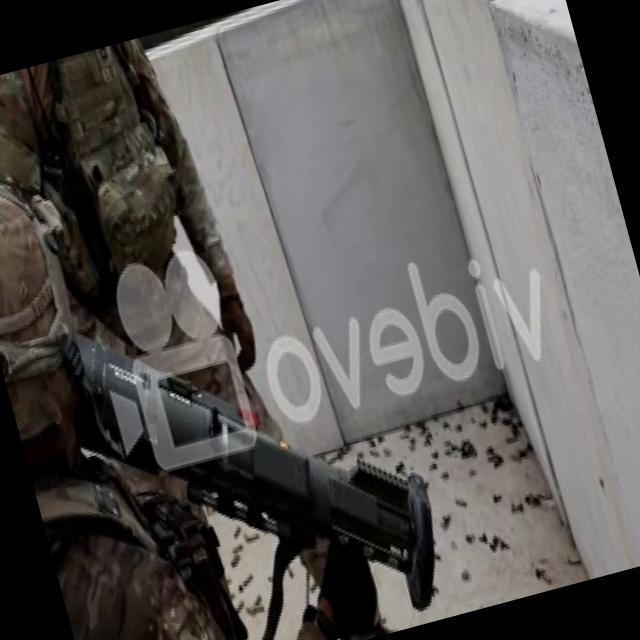rocket: (89, 268, 457, 640)
